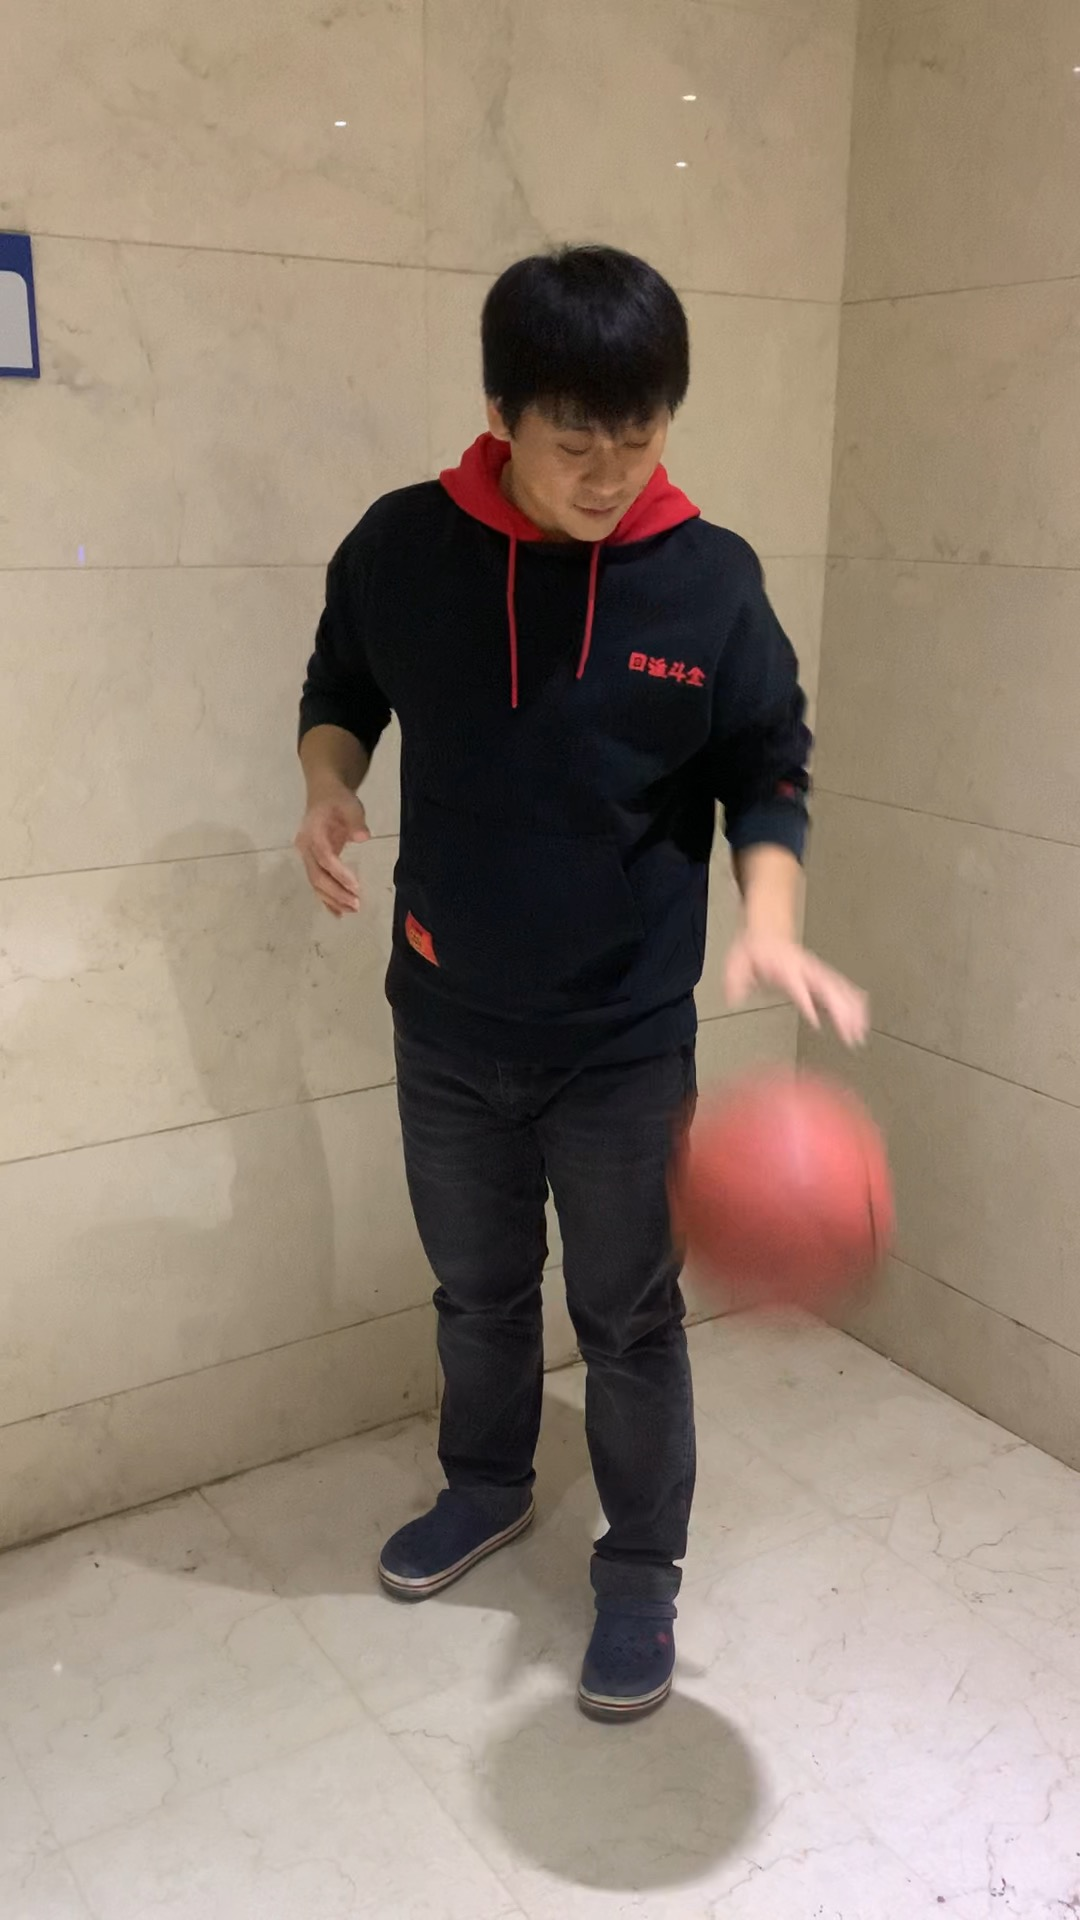ball: (680, 1072, 889, 1300)
